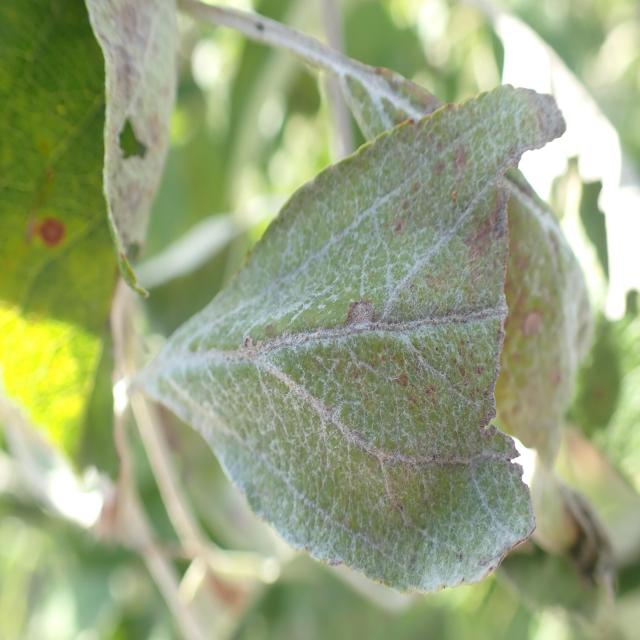Powdery_mildew: (172, 59, 587, 599), (287, 8, 634, 462), (1, 0, 194, 525)
